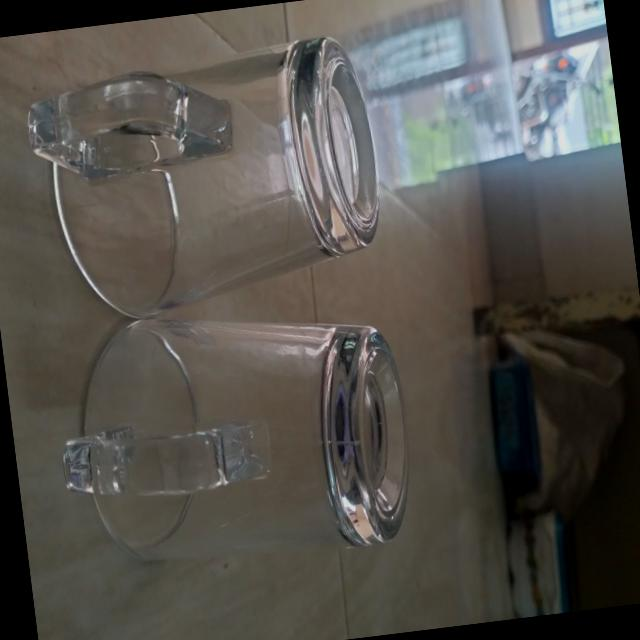glass-VX4N: (45, 284, 421, 580), (18, 29, 389, 327)
